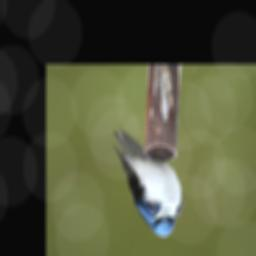Swallow: (111, 129, 184, 238)
